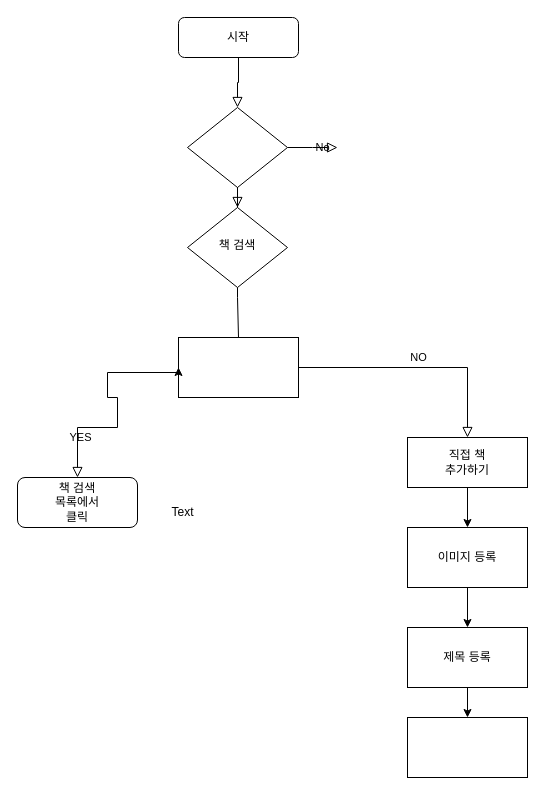
Some shapes in this 545 by 795 pixel diagram are drawn without their labels. Each missing label, with the centre of its shape:
검색 결과가 있나요?: pixel 238 367
로그인: pixel 237 147
지은이 등록: pixel 467 747
